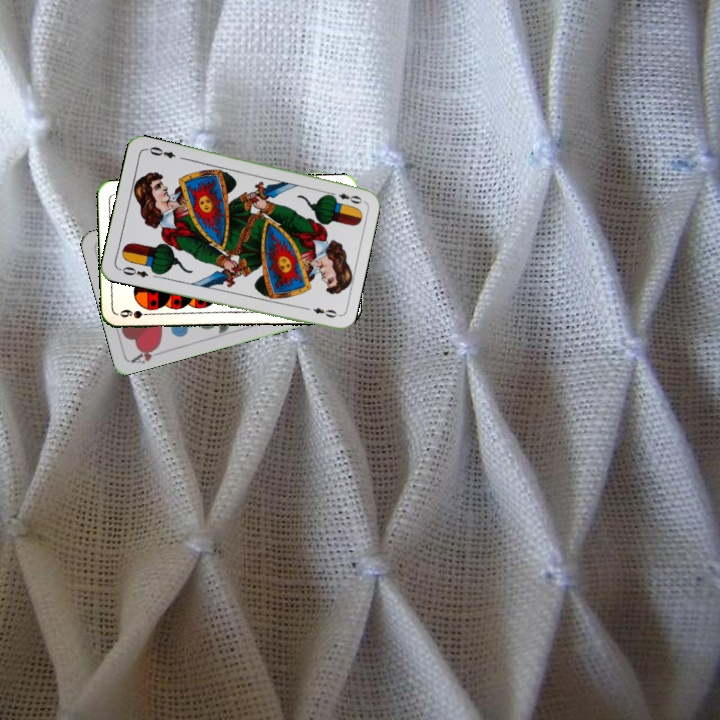EO: (325, 188, 365, 206), (115, 263, 151, 280)
HA: (127, 341, 167, 366)
S9: (116, 306, 156, 321)
